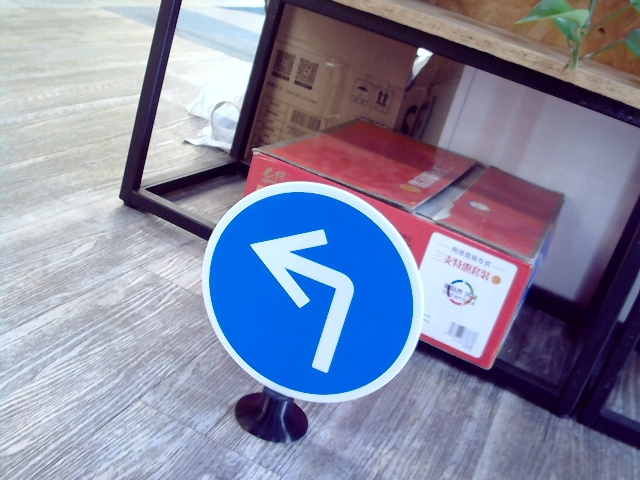turn_left: (246, 217, 358, 371)
